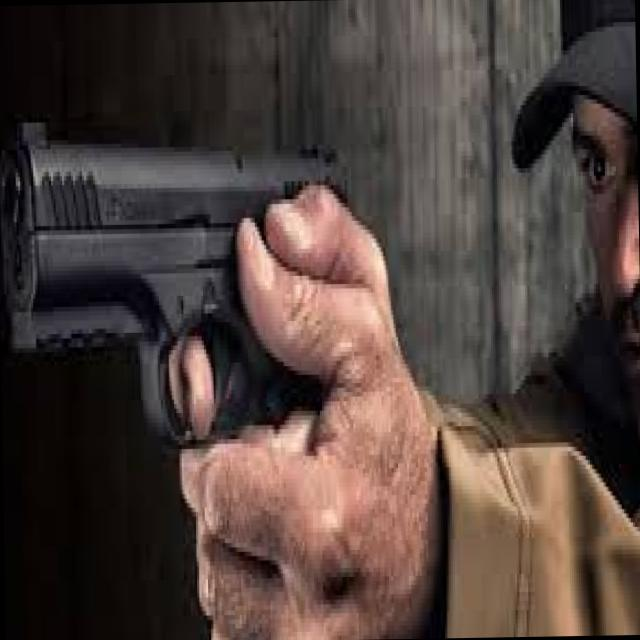Gun: (4, 79, 368, 488)
